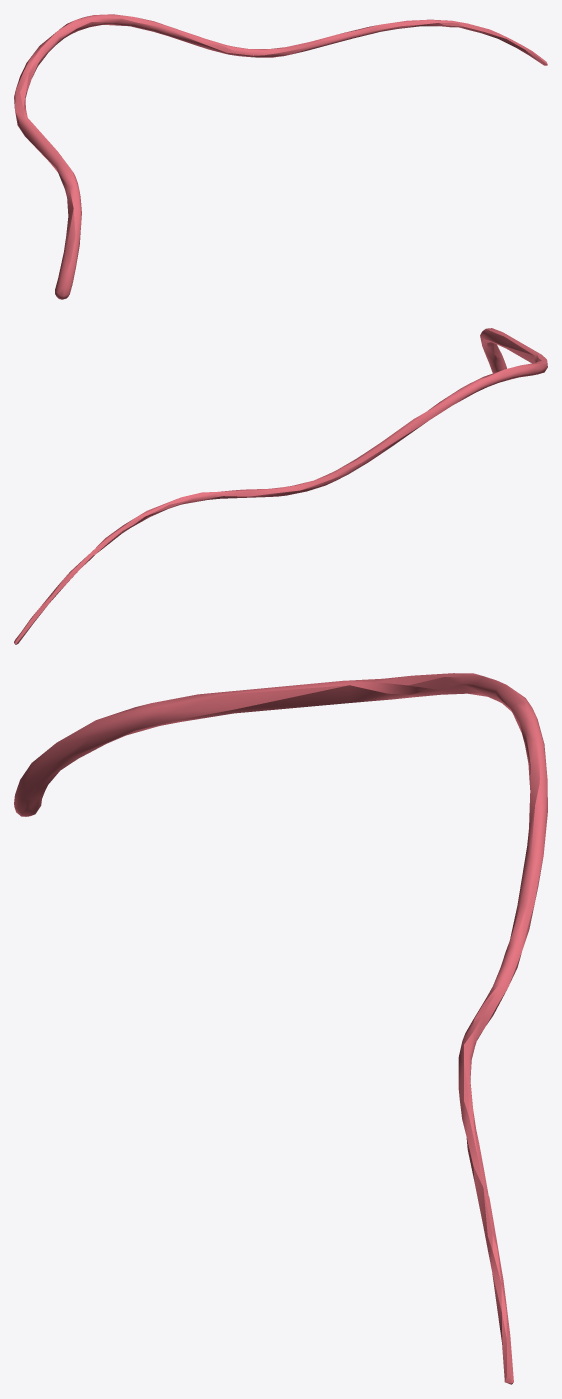
Rendered from fma50358_fj1697m.glb.
The picture shows the model from 3 angles, top to bottom: view 1: azimuth 30°, elevation 25°; view 2: azimuth 210°, elevation 25°; view 3: azimuth 270°, elevation 25°; orthographic projection. The views are drawn at different scales.
Visible parts, largest first — view 1: FMA50358_FJ1697M; view 2: FMA50358_FJ1697M; view 3: FMA50358_FJ1697M.
Part boxes in pixels (x1,y1,x2,y2): FMA50358_FJ1697M: (14,14,547,299); FMA50358_FJ1697M: (14,328,547,644); FMA50358_FJ1697M: (14,673,547,1384).
Bounding box in the file's own units: 0.0271 × 0.00644 × 0.0112.
